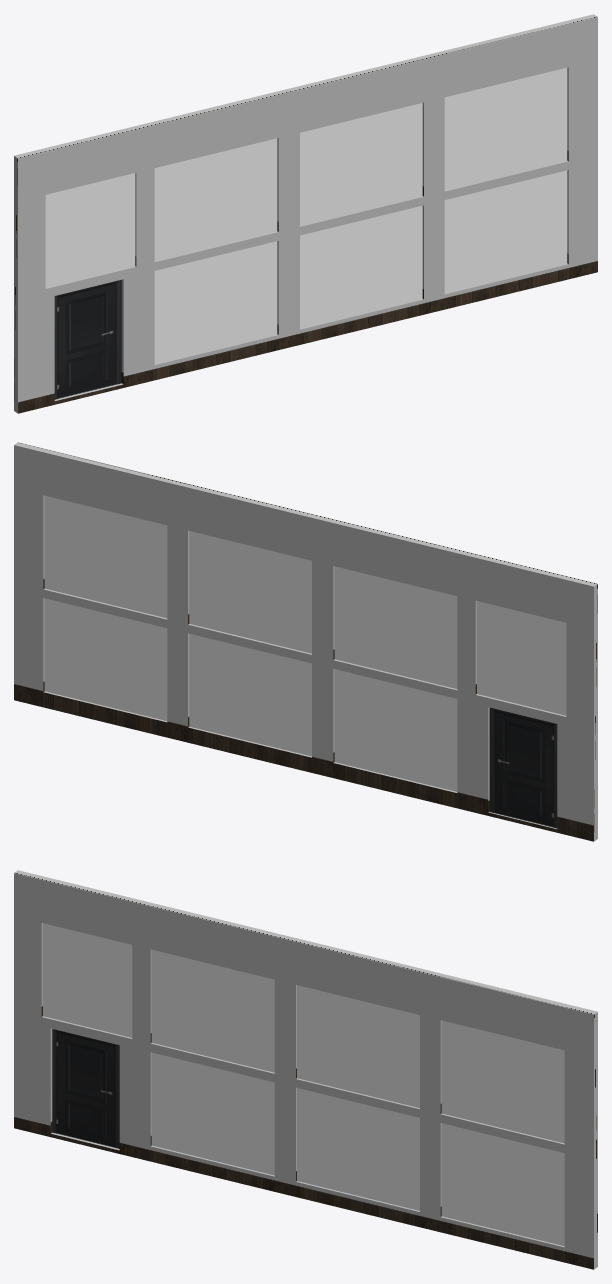
Rendered from Wall_GenMain_Front.fbx.
3 renders of one model, top to bottom at view 1: azimuth 30°, elevation 25°; view 2: azimuth 150°, elevation 25°; view 3: azimuth 330°, elevation 25°, orthographic.
Visible parts, largest first — view 1: FrontWall; view 2: FrontWall; view 3: FrontWall.
Part boxes in pixels (x1=…): FrontWall: x1=14, y1=14, x2=597, y2=413; FrontWall: x1=14, y1=442, x2=597, y2=841; FrontWall: x1=14, y1=870, x2=597, y2=1269.
Size of the model in its own units: 1252 by 526 by 14.92.
3 materials, 3 textured.
